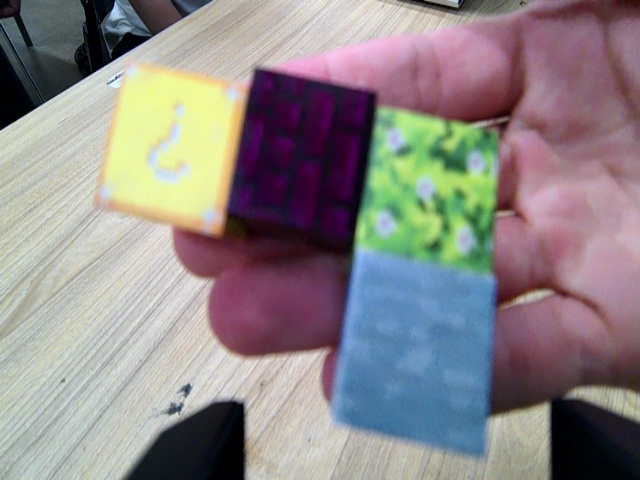brick: (229, 56, 376, 237)
grass: (353, 102, 505, 268)
lucky: (97, 56, 238, 235)
stone: (329, 250, 498, 455)
